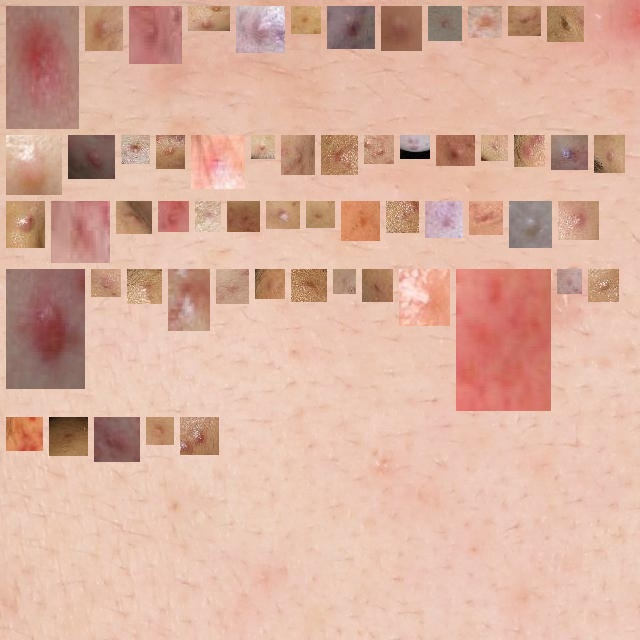papule: (464, 277, 543, 403), (14, 277, 77, 381), (14, 14, 71, 121), (59, 209, 102, 255), (14, 143, 54, 187), (137, 14, 174, 56), (199, 143, 237, 181), (407, 277, 442, 318), (176, 277, 202, 323), (244, 14, 277, 45), (102, 425, 132, 454), (76, 143, 107, 171), (335, 14, 367, 41), (517, 209, 544, 240), (389, 14, 414, 43), (14, 209, 37, 240), (93, 14, 115, 43), (566, 209, 591, 232), (349, 209, 372, 233), (57, 425, 80, 448), (188, 425, 211, 447), (329, 143, 350, 167), (433, 209, 455, 230), (289, 143, 307, 167), (555, 14, 576, 34), (559, 143, 580, 162), (196, 14, 222, 29), (14, 425, 35, 443), (135, 277, 154, 296), (444, 143, 467, 158), (436, 14, 454, 33), (124, 209, 144, 226), (299, 277, 319, 294), (602, 143, 617, 165), (477, 209, 495, 227), (224, 277, 241, 296), (476, 14, 494, 30), (394, 209, 411, 225), (235, 209, 252, 224), (370, 277, 385, 294), (596, 277, 611, 294), (522, 143, 537, 159), (516, 14, 533, 28), (164, 143, 177, 161), (166, 209, 181, 224), (274, 209, 292, 221), (263, 277, 277, 291), (372, 143, 386, 156), (129, 143, 142, 156), (299, 14, 313, 26), (99, 277, 113, 289), (203, 209, 213, 224), (154, 425, 166, 437), (314, 209, 327, 220), (408, 143, 422, 151), (489, 143, 500, 153), (565, 277, 574, 286), (259, 143, 267, 151), (341, 277, 348, 286)
